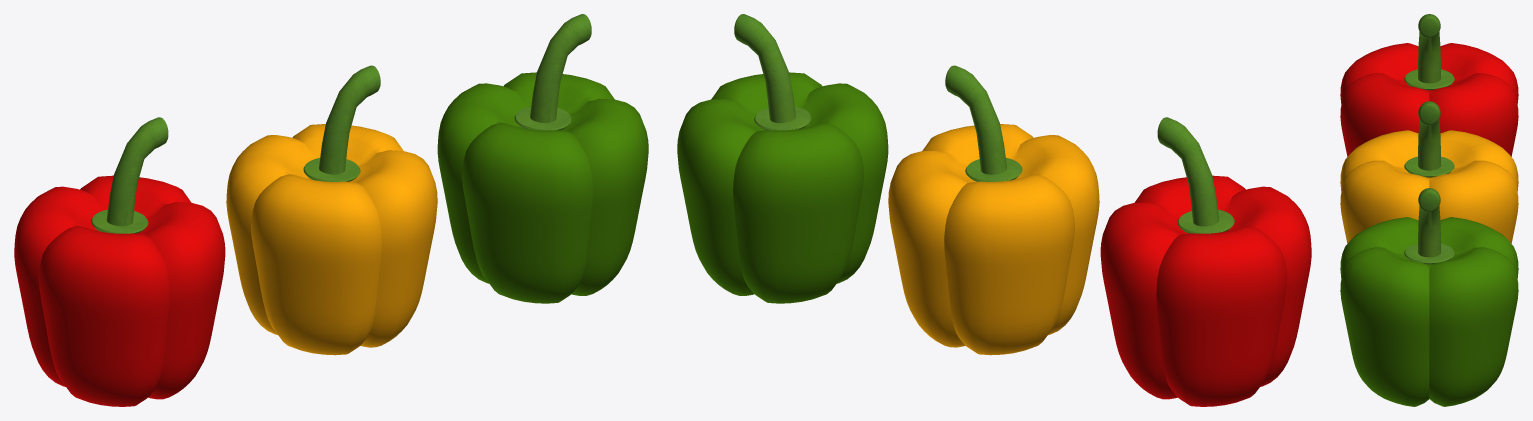
Rendered from Pepper.fbx.
3 views of the same model, side by side, from view 1: azimuth 30°, elevation 25°; view 2: azimuth 150°, elevation 25°; view 3: azimuth 270°, elevation 25° (orthographic). The views are drawn at different scales.
Parts seen in each view (by area): view 1: Pepper3, Pepper1, Pepper2; view 2: Pepper1, Pepper3, Pepper2; view 3: Pepper3, Pepper1, Pepper2.
Part boxes in pixels (left/top/right/bottom): Pepper3: left=437, top=14, right=648, bottom=303; Pepper1: left=14, top=117, right=225, bottom=406; Pepper2: left=226, top=65, right=437, bottom=355; Pepper1: left=1100, top=117, right=1311, bottom=406; Pepper3: left=677, top=14, right=888, bottom=303; Pepper2: left=888, top=65, right=1099, bottom=355; Pepper3: left=1340, top=188, right=1518, bottom=406; Pepper1: left=1340, top=14, right=1518, bottom=156; Pepper2: left=1340, top=101, right=1518, bottom=243.
Bounding box in the file's own units: 28.81 × 12.03 × 8.85.
